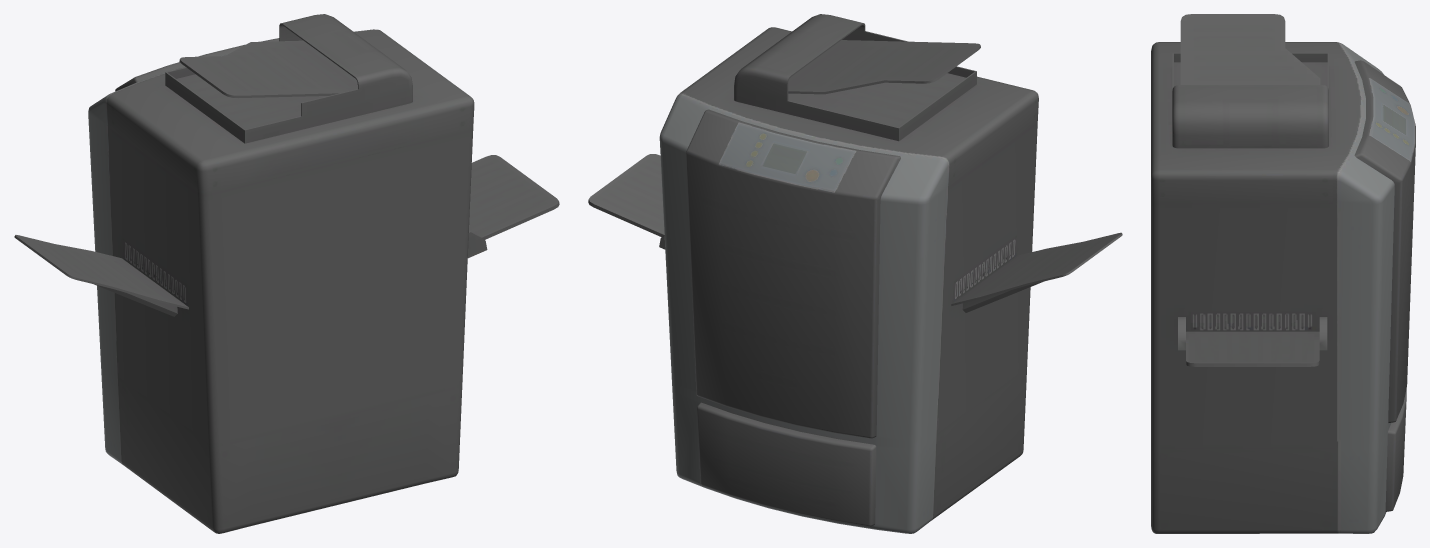
File: OfficePrinter02__3.fbx
The picture shows the model from 3 angles, left to right: view 1: azimuth 30°, elevation 25°; view 2: azimuth 150°, elevation 25°; view 3: azimuth 270°, elevation 25°; orthographic projection.
Visible parts, largest first — view 1: OfficePrinter02 2; view 2: OfficePrinter02 2; view 3: OfficePrinter02 2.
Part boxes in pixels (x1,y1,x2,y2): OfficePrinter02 2: [14, 14, 559, 533]; OfficePrinter02 2: [588, 14, 1122, 533]; OfficePrinter02 2: [1151, 14, 1415, 533].
Size of the model in its own units: 1.76 by 1.46 by 0.8383.
1 material, 1 textured.
